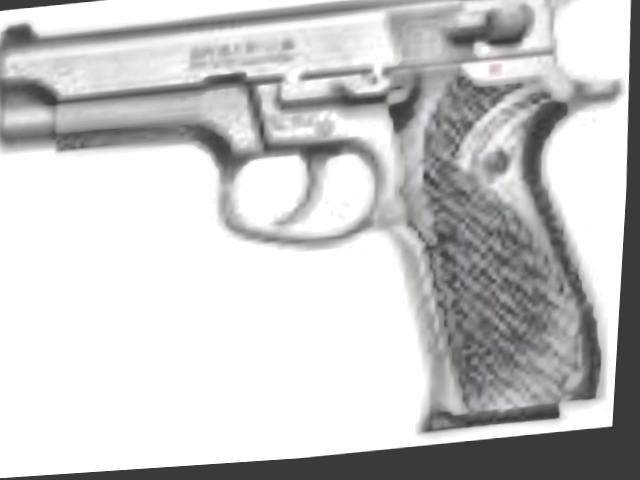pistol: (0, 0, 631, 470)
